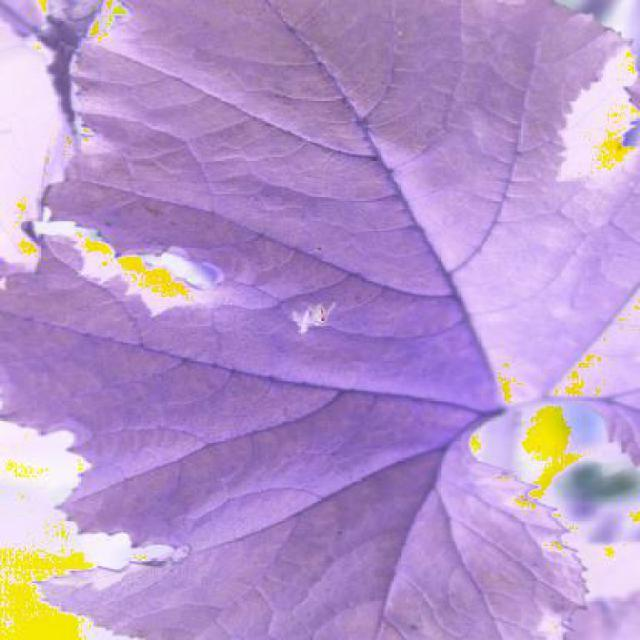Tomato bacterial spot leaf: (0, 13, 639, 402)
